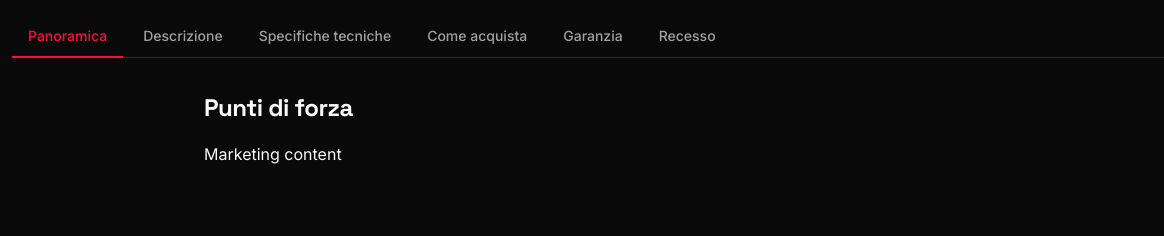
it: ProductTabs › switches panels on tab click
Step 1. Click the tab "Specifiche tecniche" → (325, 37), box [243,16,407,58]
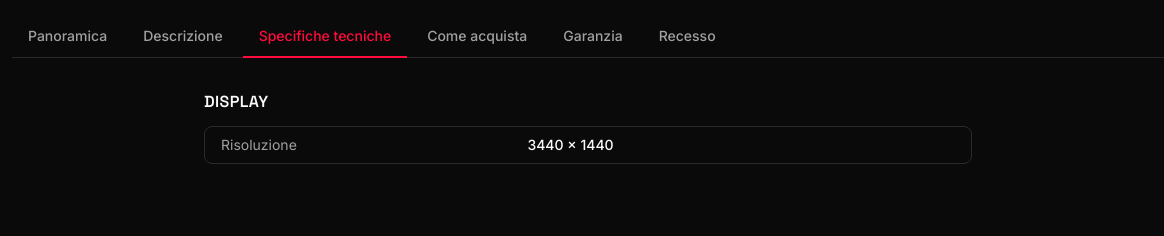
expect the text "Risoluzione" is shown: met, box [205,127,511,163]
Step 2. Click the tab "Garanzia" → (593, 37), box [547,16,639,58]
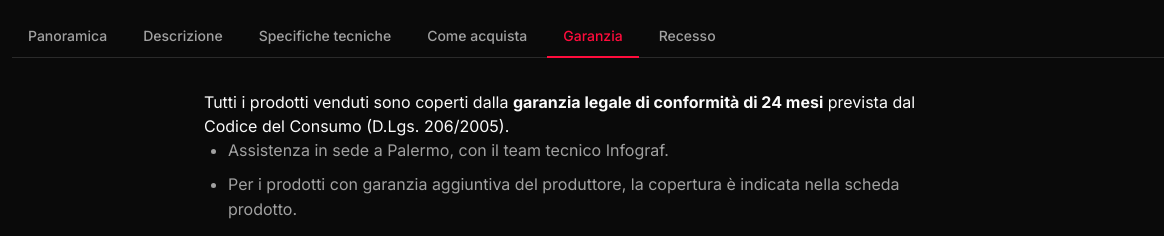
expect the text "garanzia legale di conformità di 24 mesi" is shown: met, box [513,92,823,112]
Step 3. Click the tab "Descrizione" → (183, 37), box [127,16,239,58]
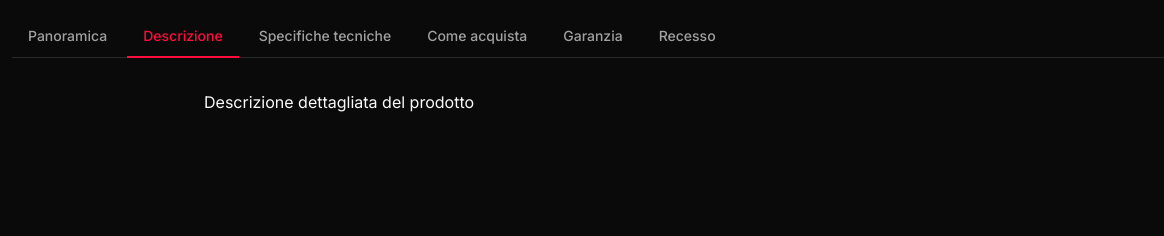
expect the text "Descrizione dettagliata del prodotto" is shown: met, box [204,92,474,112]
